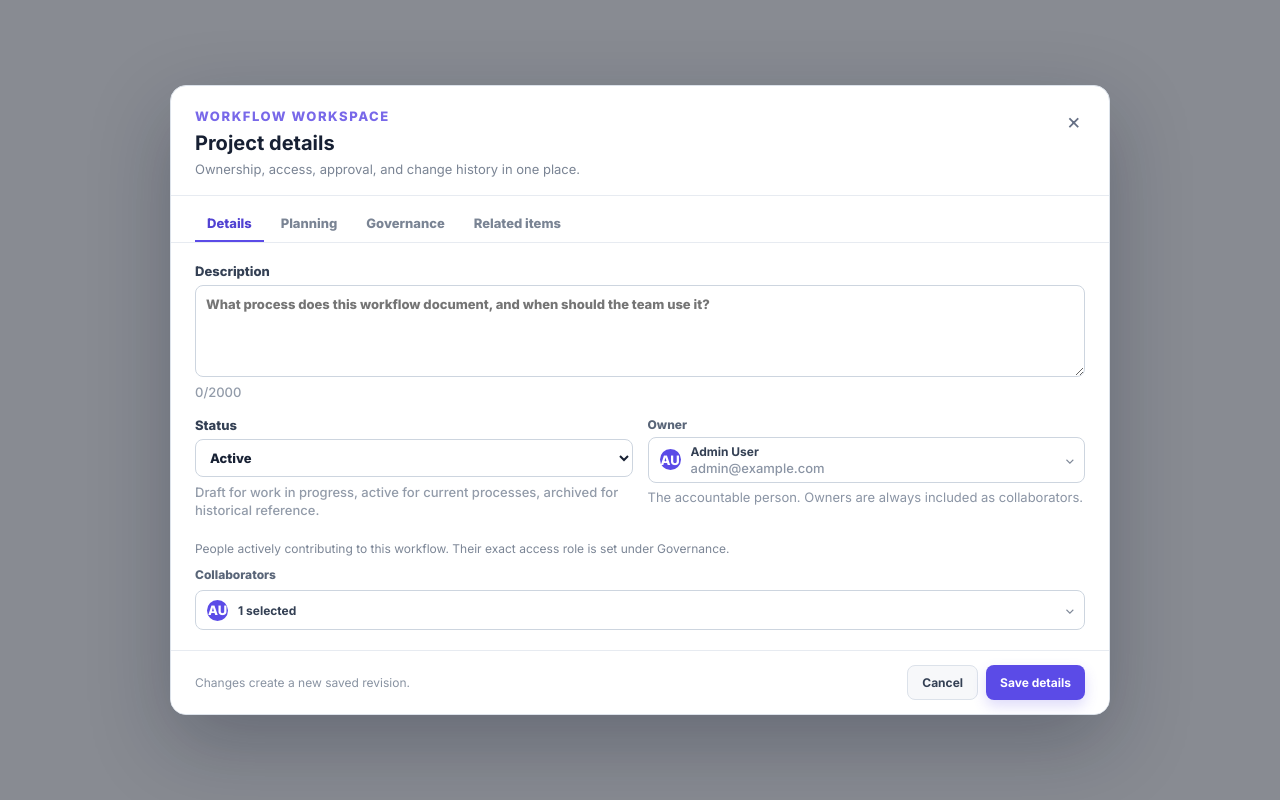
shows the permission-filtered graph directly from project details
Click the button "Related items" at (517, 224), box [462, 206, 573, 242]
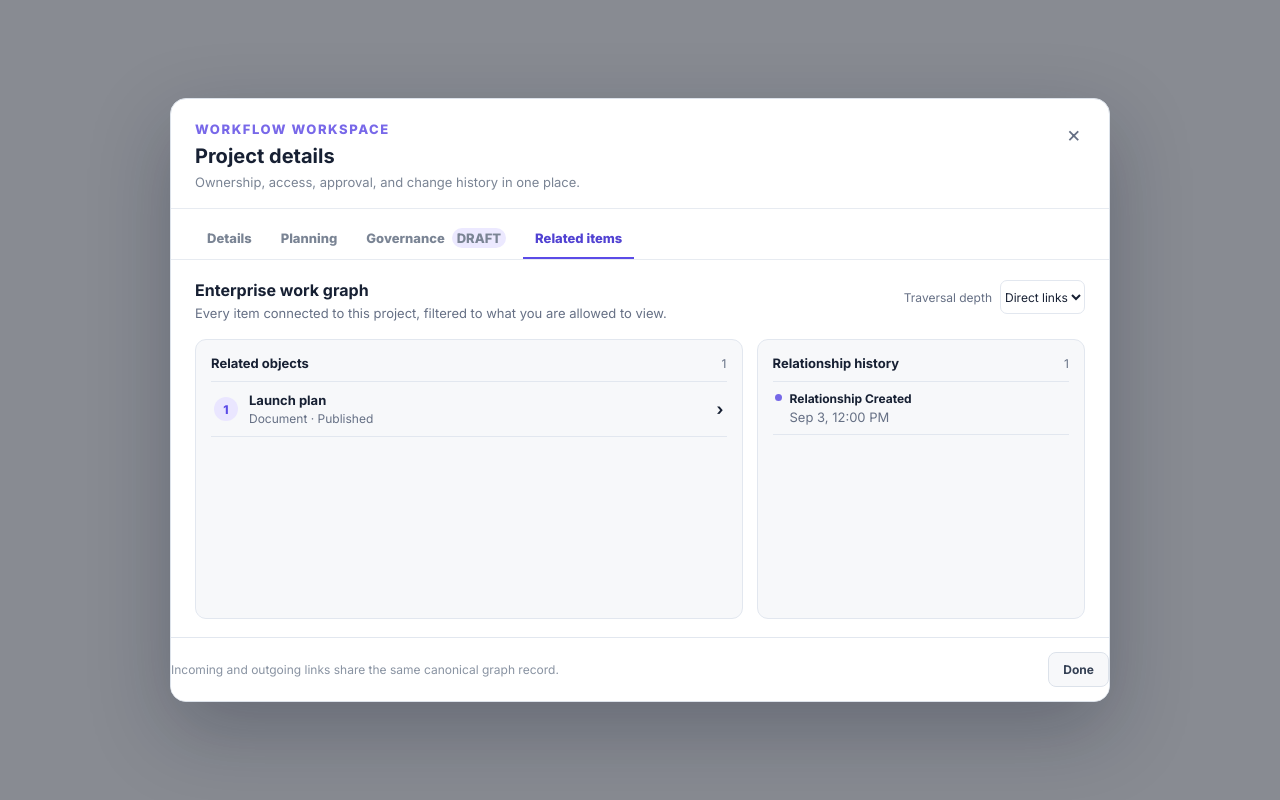
Expected: the text "Launch plan" is shown, [249, 392, 326, 408]
Expected: the text "relationship created" is shown, [790, 391, 912, 406]
